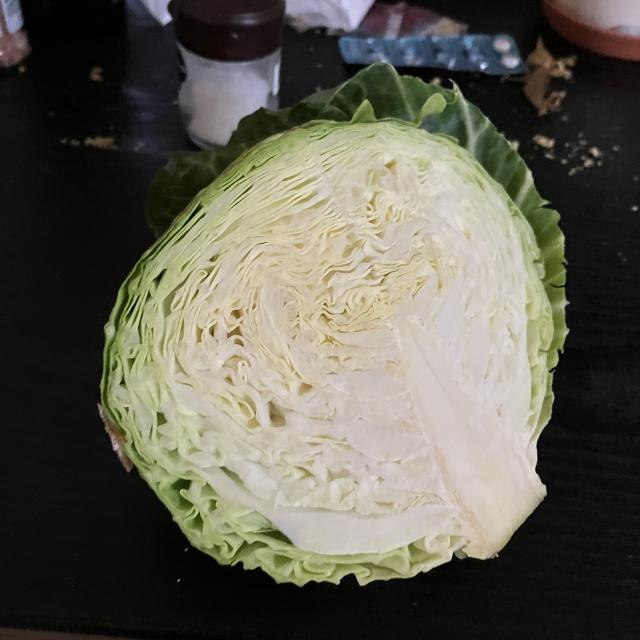haft-cabbage: (87, 59, 570, 588)
